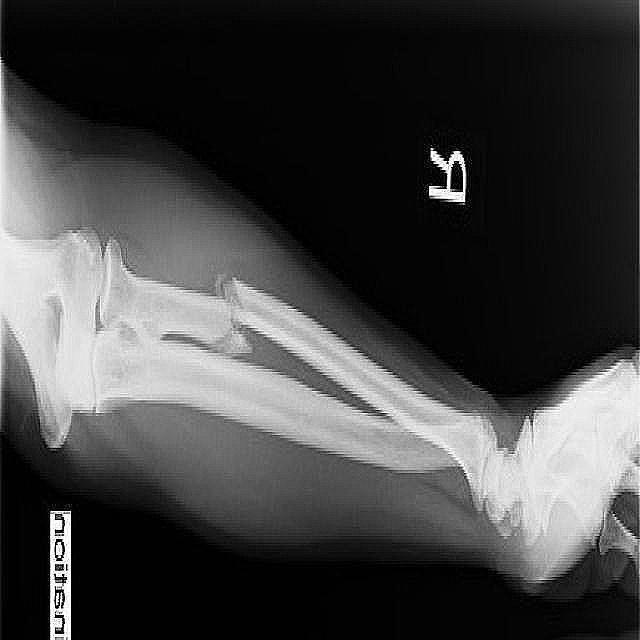bone: (196, 266, 278, 364)
